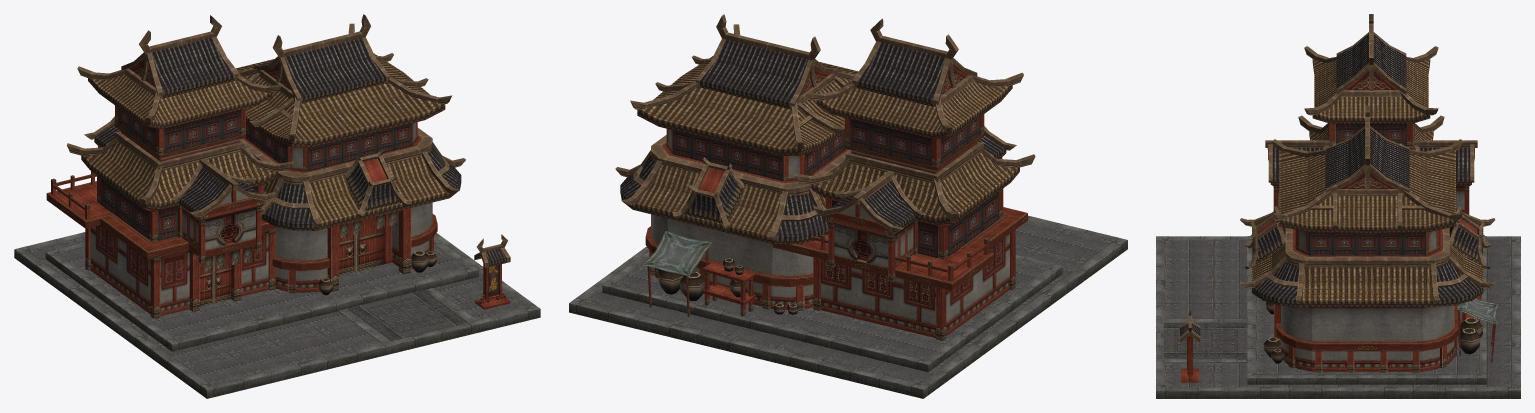
3 renders of one model, left to right at view 1: azimuth 30°, elevation 25°; view 2: azimuth 150°, elevation 25°; view 3: azimuth 270°, elevation 25°, orthographic. The views are drawn at different scales.
Visible parts, largest first — view 1: g_63; view 2: g_63; view 3: g_63.
Part boxes in pixels (x1,y1,x2,y2): g_63: (14, 14, 540, 398); g_63: (569, 14, 1127, 398); g_63: (1156, 14, 1520, 398).
Bounding box in the file's own units: 20 × 15.53 × 20.
2 materials, 2 textured.
